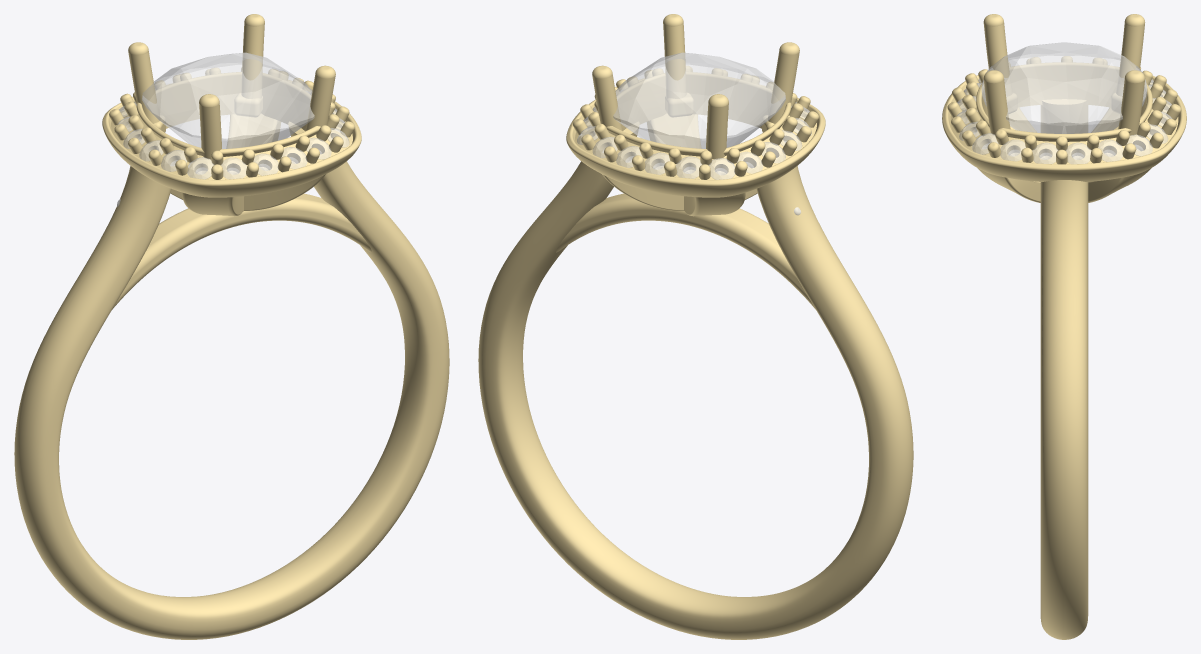
The picture shows the model from 3 angles, left to right: view 1: azimuth 30°, elevation 25°; view 2: azimuth 150°, elevation 25°; view 3: azimuth 270°, elevation 25°; orthographic projection.
Parts seen in each view (by area): view 1: NNObj_30, NNObj_29, NNObj_36, NNObj_0, NNObj_31, NNObj_27, NNObj_26, NNObj_35, NNObj_22, NNObj_23, NNObj_33, NNObj_32; view 2: NNObj_30, NNObj_29, NNObj_36, NNObj_0, NNObj_31, NNObj_22, NNObj_23, NNObj_32, NNObj_26, NNObj_27, NNObj_34, NNObj_35; view 3: NNObj_29, NNObj_36, NNObj_0, NNObj_30, NNObj_26, NNObj_23, NNObj_27, NNObj_22, NNObj_32, NNObj_35, NNObj_19, NNObj_18 (+5 smaller).
Part boxes in pixels (x1,y1,x2,y2): NNObj_30: (14,166,243,639); NNObj_29: (223,122,449,633); NNObj_36: (102,72,361,197); NNObj_0: (142,52,314,149); NNObj_31: (112,193,371,309); NNObj_27: (241,14,264,98); NNObj_26: (128,42,159,123); NNObj_35: (226,114,280,148); NNObj_22: (305,65,335,130); NNObj_23: (199,94,221,159); NNObj_33: (182,192,243,216); NNObj_32: (244,174,325,210); NNObj_30: (684,166,913,639); NNObj_29: (478,122,703,633); NNObj_36: (566,72,825,197); NNObj_0: (613,52,785,148); NNObj_31: (556,193,815,309); NNObj_22: (663,14,686,98); NNObj_23: (768,42,799,123); NNObj_32: (647,114,701,148); NNObj_26: (706,94,728,159); NNObj_27: (592,65,622,130); NNObj_34: (684,192,745,216); NNObj_35: (602,174,683,210); NNObj_29: (1040,180,1088,639); NNObj_36: (942,62,1186,181); NNObj_0: (981,42,1147,133); NNObj_30: (1041,99,1087,133); NNObj_26: (1116,14,1145,96); NNObj_23: (983,14,1012,96); NNObj_27: (1118,70,1145,135); NNObj_22: (983,70,1010,135); NNObj_32: (977,168,1040,202); NNObj_35: (1088,168,1151,202); NNObj_19: (1065,142,1091,164); NNObj_18: (1032,142,1058,163).
Size of the model in its own units: 0.0208 by 0.0267 by 0.0103.
